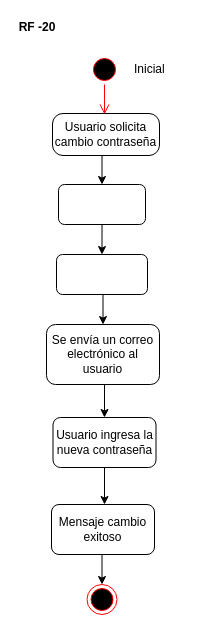
This 199x632 diagram has some shape labels left out. Each missing label, with the centre of its shape:
Se muestra formulariode recuperación: (102,204)
Se verifica información: (102,274)
